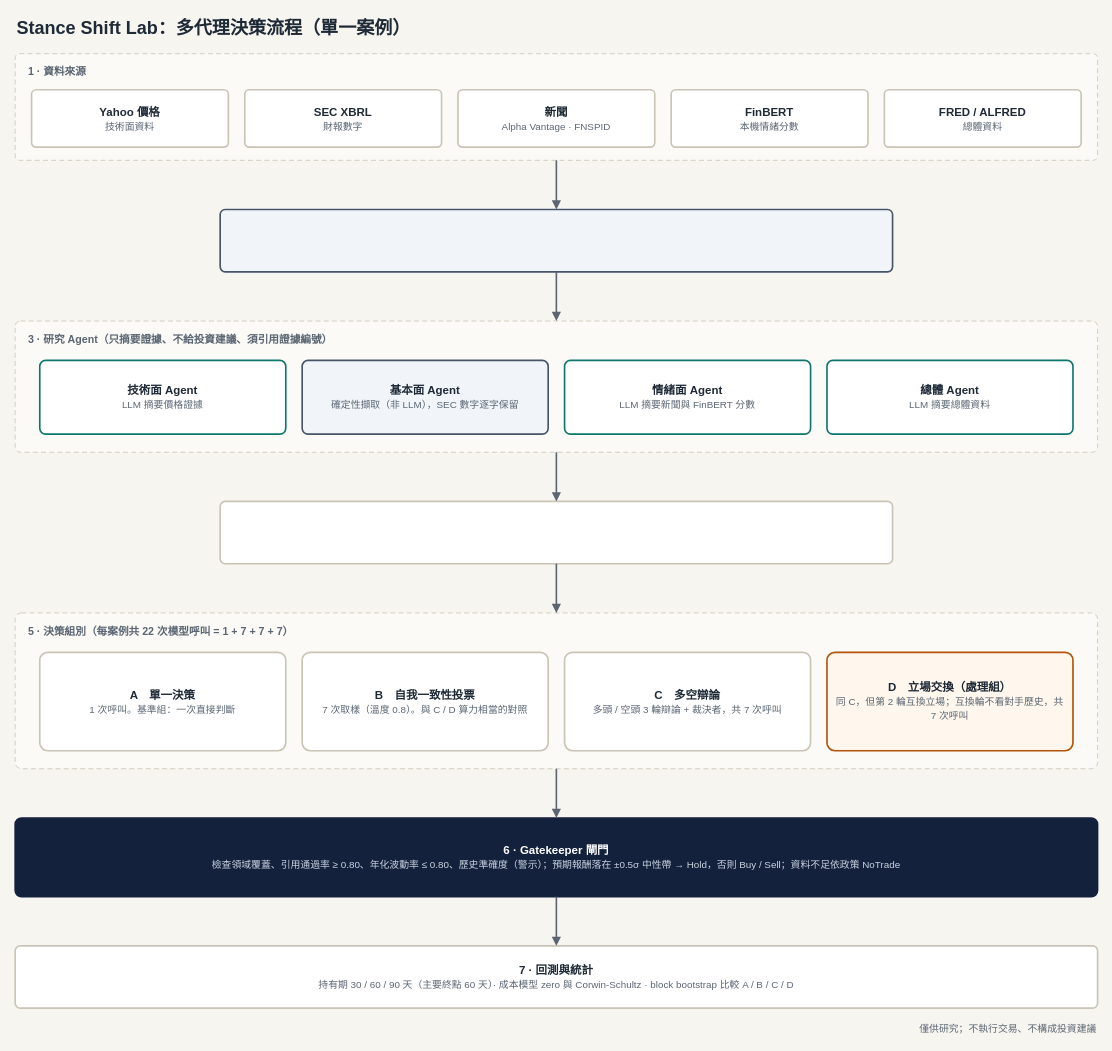
This 1112x1051 diagram has some shape labels left out. Each missing label, with the centre of its shape:
"2 · Coordinator：建立證據快照 依分析日切出時間邊界內的證據，四個領域各自輸入（不使用未來資料）" goes at [556,240].
"4 · 中性報告（Neutral Report） 鎖定並計算雜湊；A / B / C / D 四組看到同一份證據" goes at [556,532].
